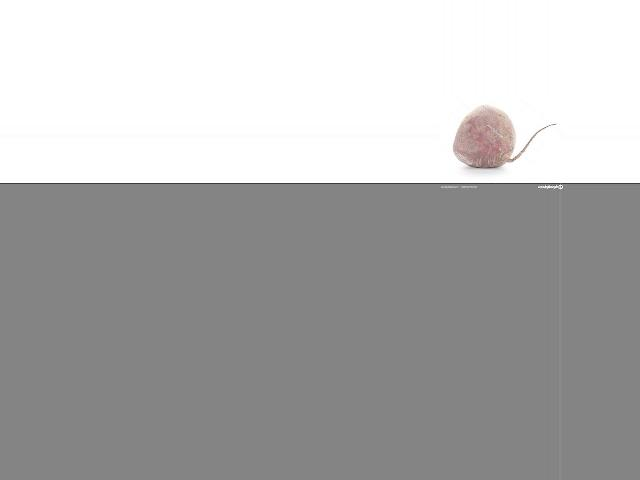beet: (452, 106, 556, 168)
